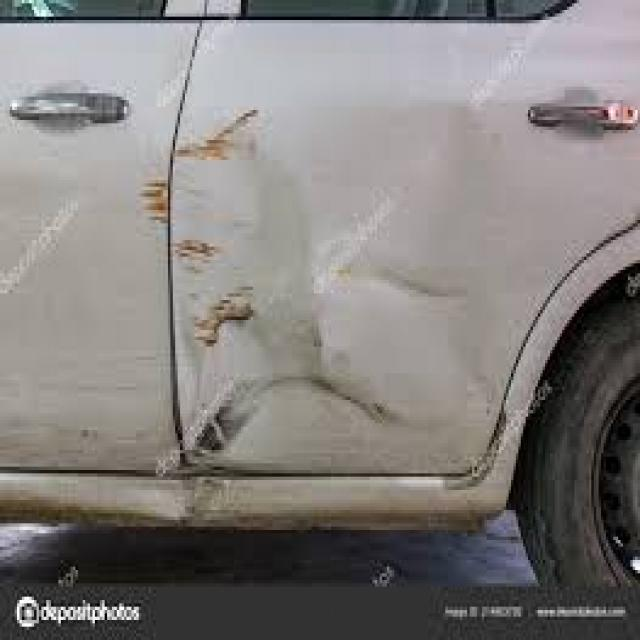damaged-door: (175, 0, 640, 481)
